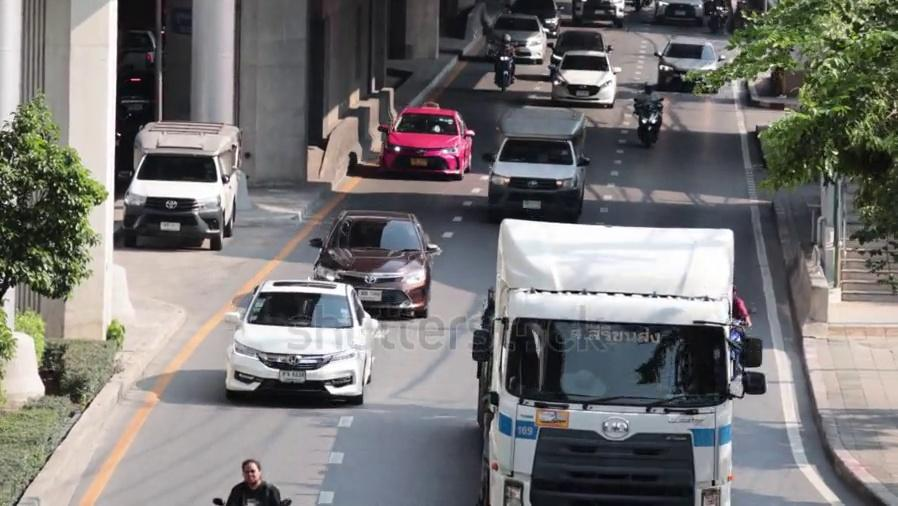rider: (224, 458, 291, 505), (633, 77, 666, 148), (731, 282, 752, 384), (494, 32, 519, 91), (709, 0, 726, 39)
with_helmate: (642, 81, 654, 96), (501, 35, 511, 45)
without_helmate: (237, 458, 264, 482)
